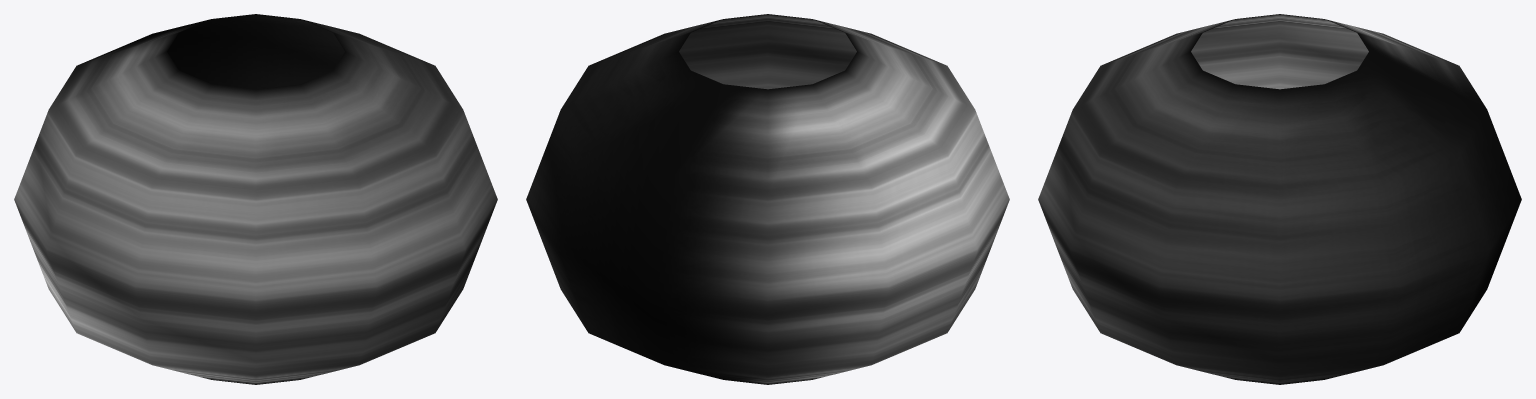
The model's file is SFX_SpinningEff_1.fbx.
3 views of the same model, side by side, from view 1: azimuth 30°, elevation 25°; view 2: azimuth 150°, elevation 25°; view 3: azimuth 270°, elevation 25° (orthographic).
Parts seen in each view (by area): view 1: pSphere1; view 2: pSphere1; view 3: pSphere1.
Part boxes in pixels (x1,y1,x2,y2): pSphere1: [14, 14, 497, 384]; pSphere1: [526, 14, 1009, 384]; pSphere1: [1038, 14, 1521, 384].
Bounding box in the file's own units: 28.53 × 19.24 × 28.53.
Materials: 1 (1 with a texture image).
